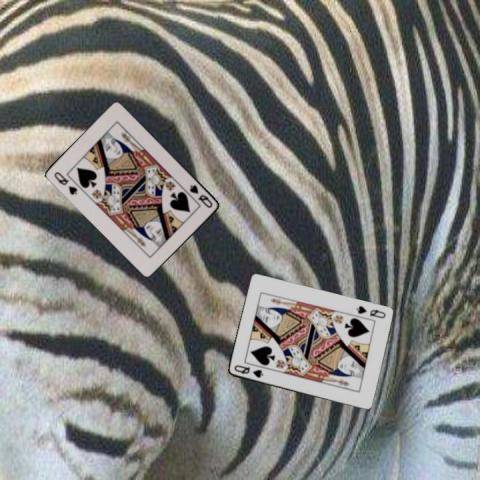Qs: (187, 182, 214, 210), (51, 169, 79, 196), (230, 362, 264, 379), (354, 303, 387, 320)
